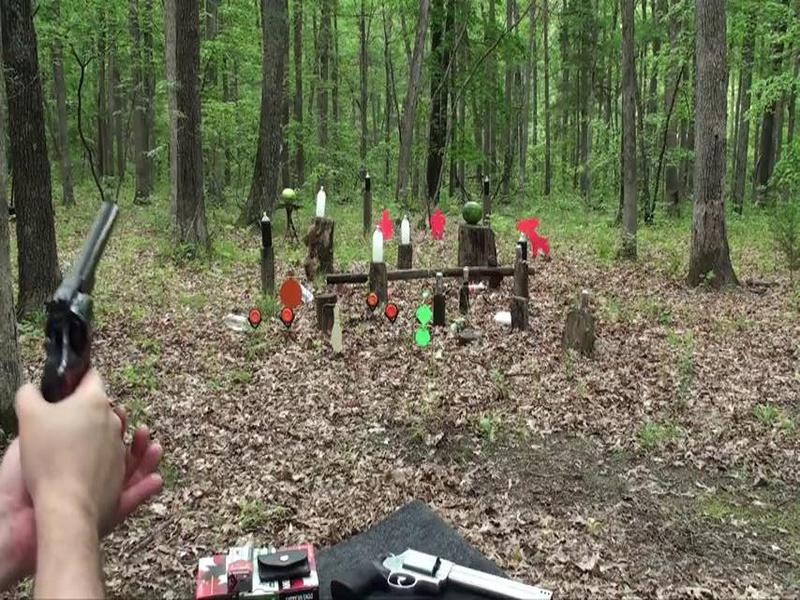Revolver: (15, 187, 139, 430)
